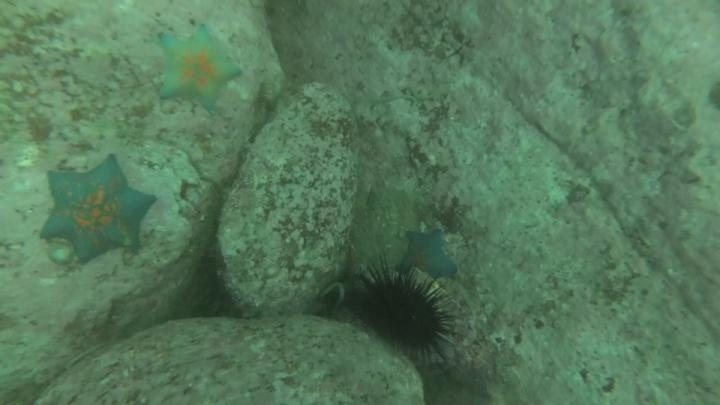echinus: (351, 263, 456, 361)
starfish: (37, 153, 159, 267), (153, 23, 244, 114), (396, 226, 460, 282)
